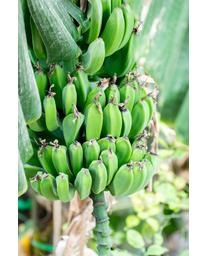banana: (21, 0, 155, 205)
